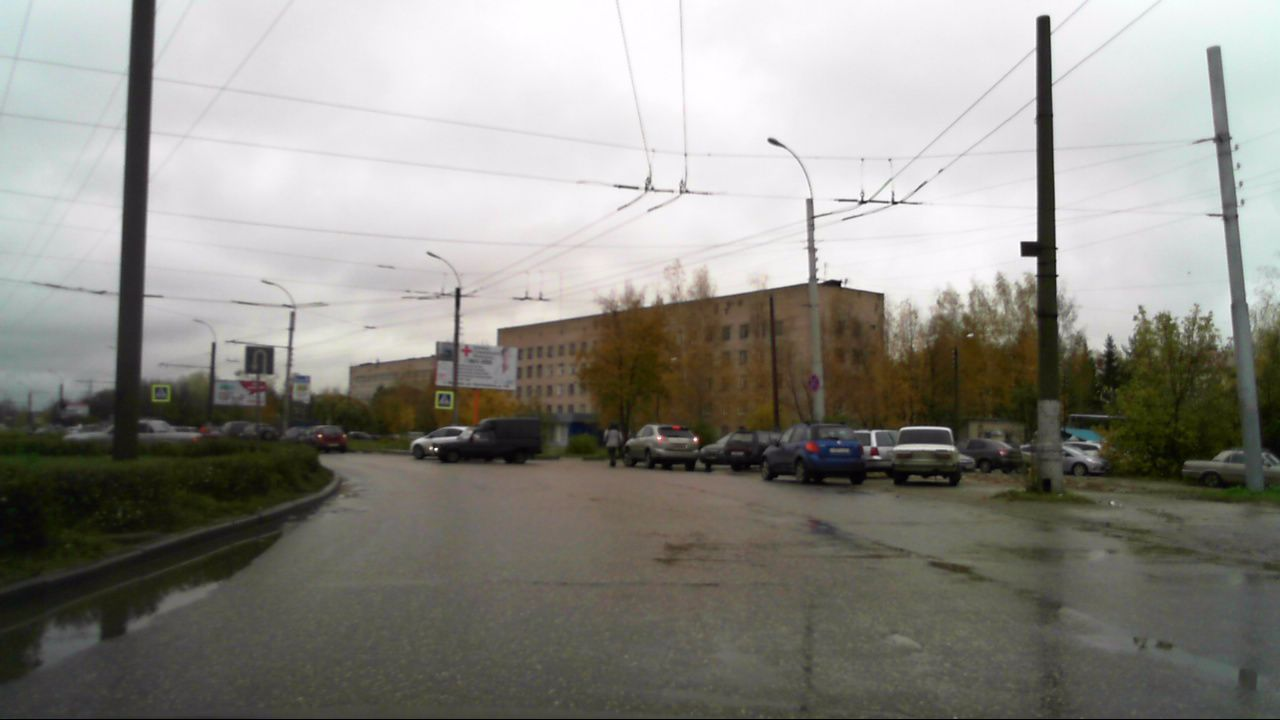U-turn: (245, 346, 274, 373)
